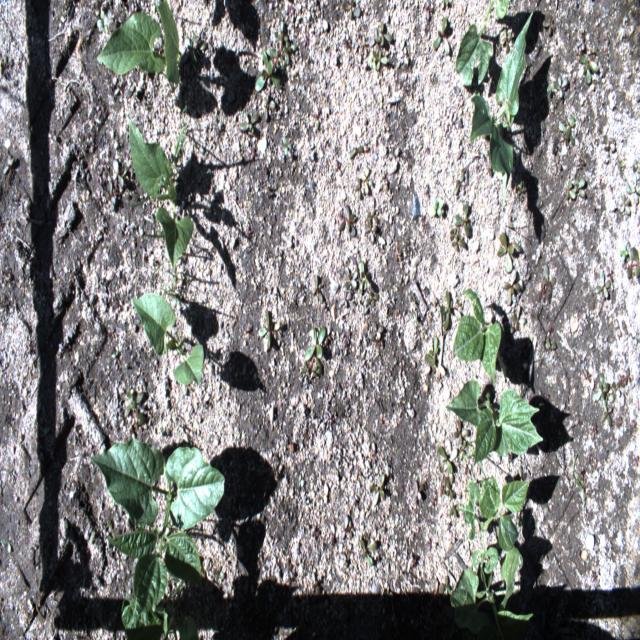crop: (91, 436, 225, 640), (470, 12, 532, 213), (128, 117, 194, 271), (445, 378, 542, 474), (447, 544, 533, 635), (96, 0, 183, 85), (132, 294, 204, 386), (459, 474, 530, 554), (452, 288, 508, 386), (455, 0, 510, 87)
weed: (254, 19, 296, 95), (496, 233, 521, 274), (124, 389, 147, 433), (440, 288, 462, 332), (425, 337, 446, 376), (304, 326, 326, 360), (572, 446, 584, 504), (579, 52, 598, 86), (432, 18, 449, 56), (258, 309, 272, 354), (337, 207, 357, 236), (369, 471, 385, 507), (438, 446, 458, 474), (592, 371, 610, 402), (594, 271, 610, 303), (558, 116, 574, 148), (359, 538, 377, 566), (627, 245, 639, 284), (238, 111, 259, 133), (310, 273, 324, 304), (552, 73, 568, 100), (370, 48, 388, 72), (362, 215, 377, 243), (358, 260, 370, 294), (342, 2, 362, 22), (600, 399, 612, 432), (263, 92, 276, 122), (342, 268, 358, 290), (564, 178, 577, 199), (575, 177, 586, 200), (432, 197, 443, 218)
